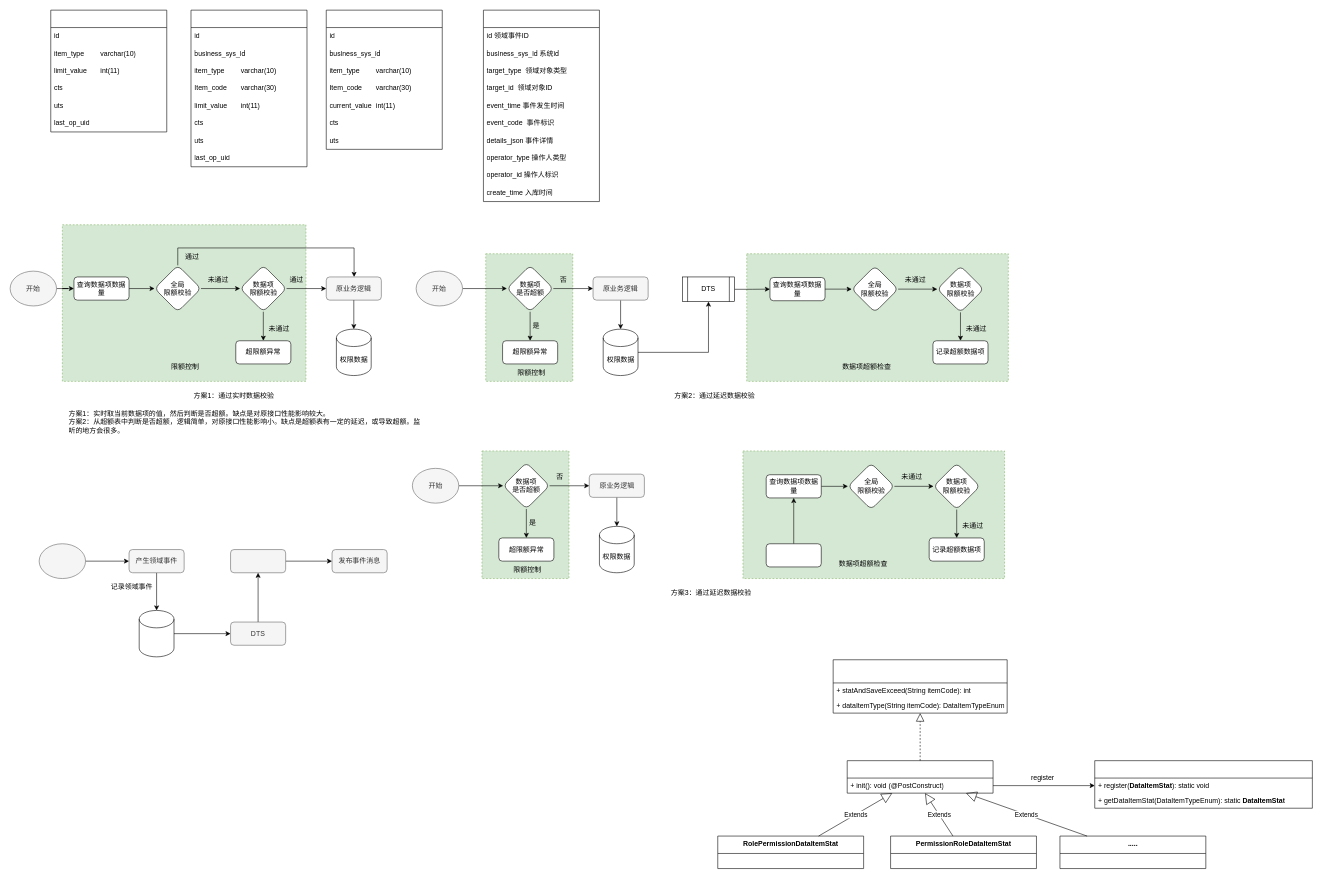
This 1323x879 diagram has some shape labels left out. Each missing label, with the box of its shape:
AbsDataItemStat: (847, 760, 993, 793)
ac_adt_domain_event 业务事件表: (483, 10, 599, 202)
ac_dls_item_limit_config 数据项限额表: (190, 10, 307, 167)
ac_dls_limit_config 全局限额表: (50, 10, 167, 132)
ac_dls_limit_exceed_item 数据项超额表: (326, 10, 442, 149)
DataItemStatSupport: (1094, 760, 1312, 808)
«interface» DataItemStat: (833, 659, 1007, 713)
业务逻辑: (39, 543, 86, 579)
事件总线: (230, 549, 286, 573)
定时巡检任务: (766, 543, 821, 567)
领域事件: (139, 610, 174, 657)
